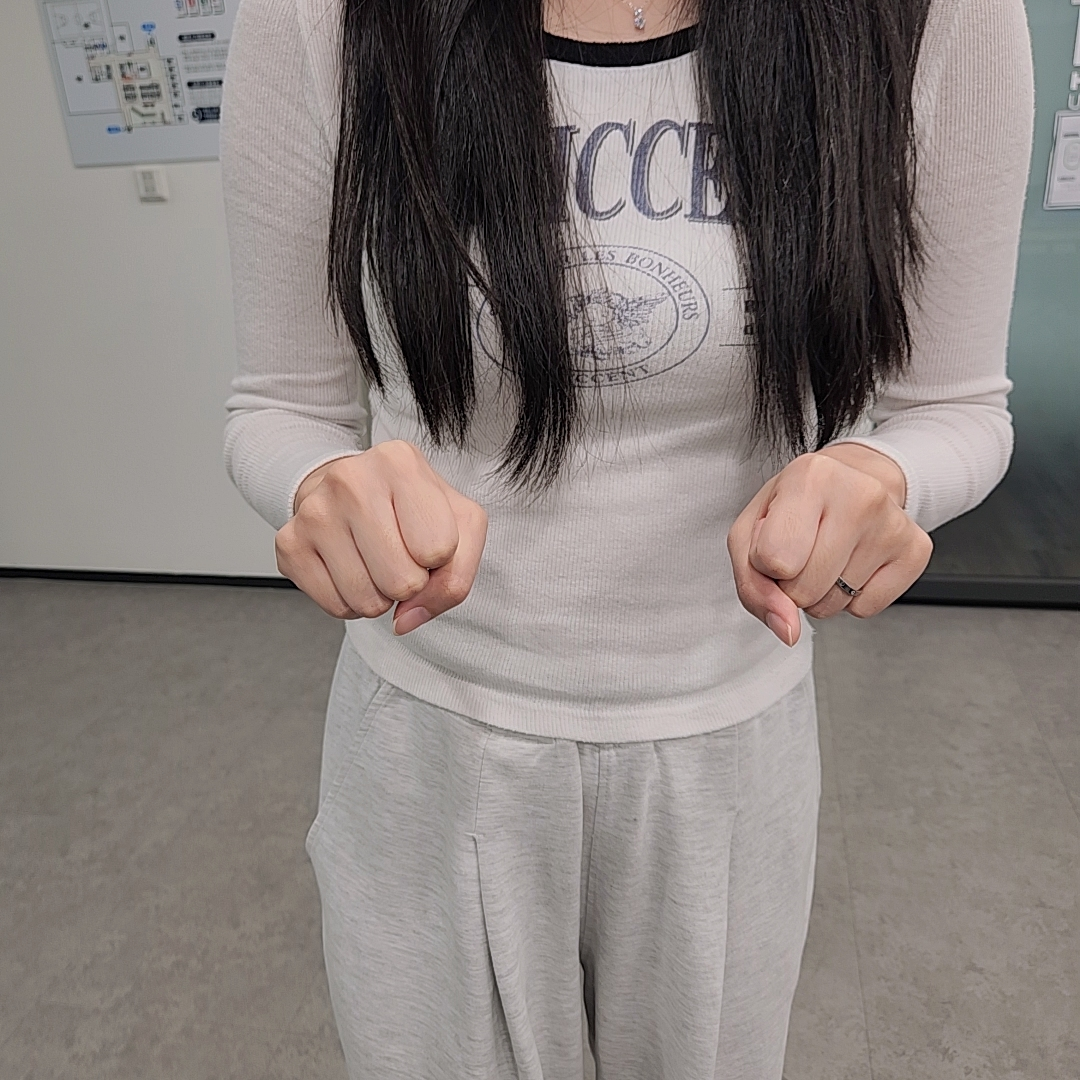hello: (276, 441, 933, 643)
